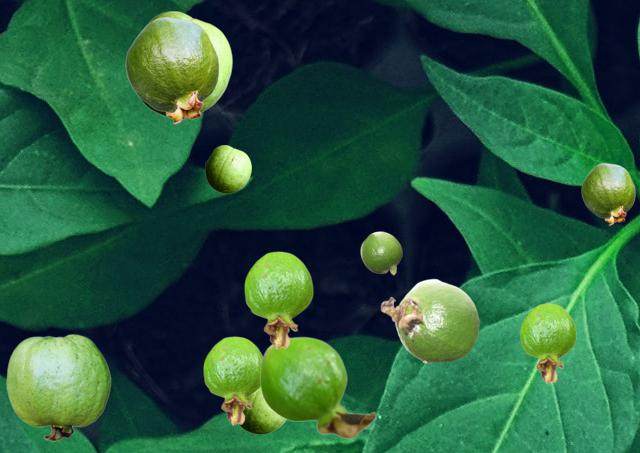guava: (259, 336, 375, 438), (6, 334, 110, 440), (125, 17, 218, 123), (140, 11, 231, 117), (380, 278, 479, 362), (244, 251, 312, 348), (203, 336, 262, 424), (520, 303, 575, 382), (581, 163, 634, 224), (205, 145, 250, 192), (239, 390, 285, 433), (360, 231, 401, 274)
